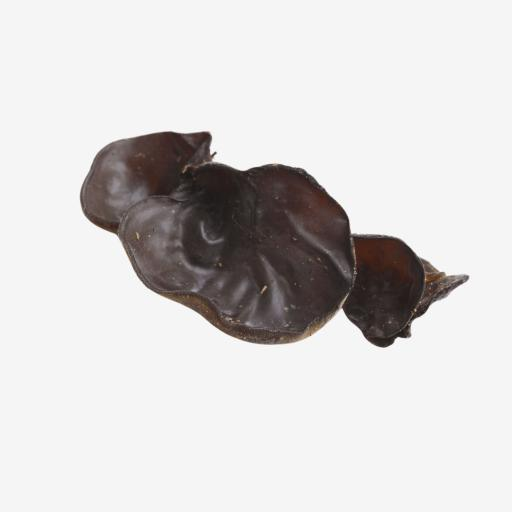Wood Ear Mushroom: (72, 114, 475, 370)
